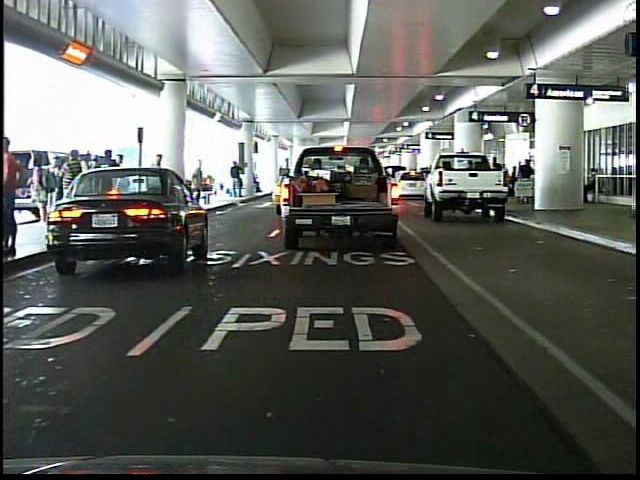person: (146, 150, 170, 223), (191, 156, 211, 222), (230, 161, 248, 200)
